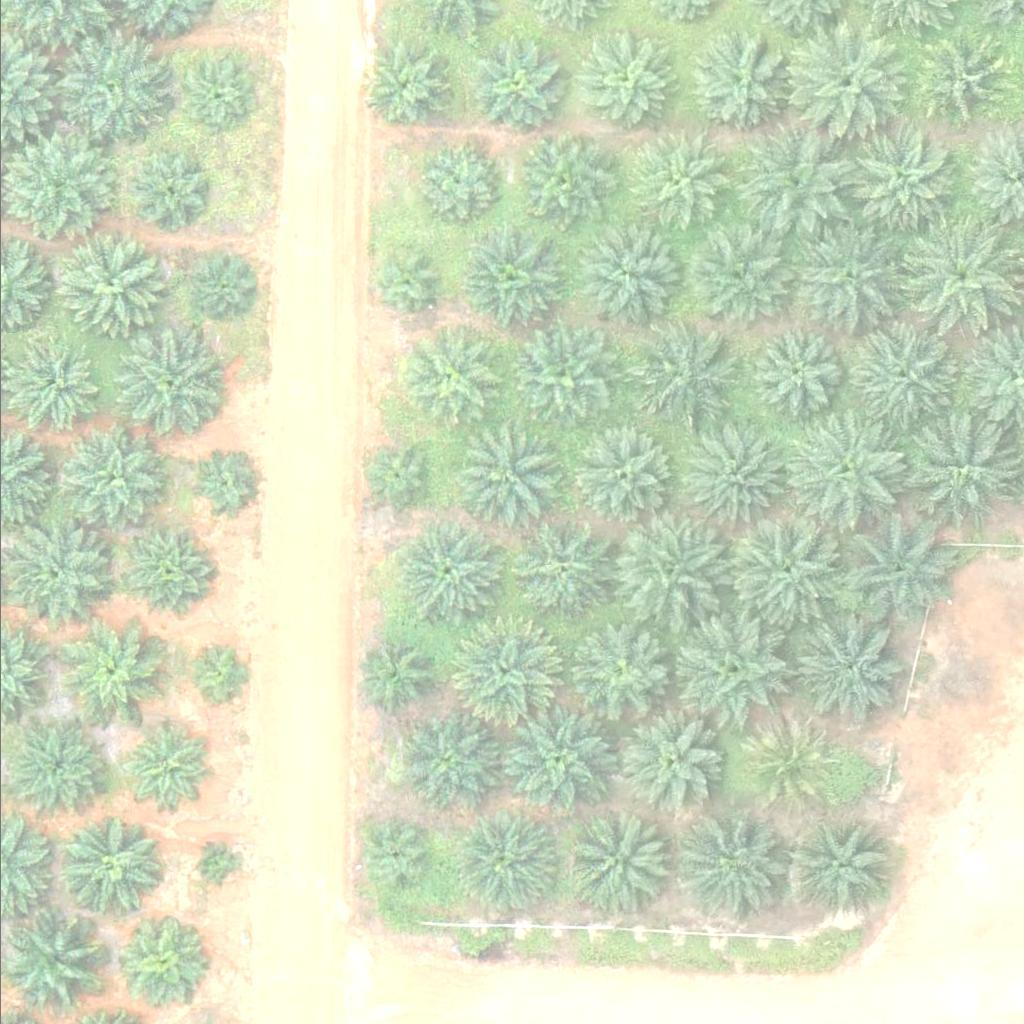Kelapa_Sawit: (790, 617, 904, 730), (674, 615, 788, 728), (839, 515, 953, 628), (502, 704, 615, 817), (901, 220, 1014, 333), (796, 219, 909, 332), (847, 122, 960, 235), (733, 515, 847, 627), (900, 418, 1014, 530), (441, 617, 554, 729), (676, 812, 789, 924), (609, 512, 722, 624), (787, 415, 900, 527), (842, 319, 955, 431), (740, 128, 853, 240), (791, 26, 904, 138), (58, 28, 171, 140), (788, 814, 889, 914), (396, 711, 497, 811), (505, 520, 606, 620), (398, 524, 499, 624), (682, 426, 783, 526), (569, 427, 670, 527), (460, 427, 561, 527), (637, 326, 738, 426), (511, 328, 612, 428), (399, 328, 500, 428), (687, 234, 788, 334), (579, 228, 680, 328), (457, 229, 558, 329), (630, 135, 731, 235), (513, 134, 614, 234), (688, 33, 789, 133), (572, 32, 673, 132), (61, 235, 162, 335), (120, 337, 221, 437), (63, 428, 164, 528), (6, 523, 107, 623), (59, 625, 160, 725), (7, 717, 108, 817), (569, 809, 669, 909), (455, 814, 555, 914), (616, 715, 716, 815), (566, 621, 666, 721), (356, 35, 456, 135), (63, 817, 163, 917), (5, 912, 105, 1012), (914, 36, 1003, 124), (738, 720, 826, 808), (412, 140, 500, 228), (120, 722, 208, 810), (748, 328, 836, 415), (472, 45, 560, 132), (123, 534, 211, 621), (111, 921, 199, 1008), (174, 57, 250, 132), (357, 820, 433, 895), (365, 246, 441, 321), (131, 154, 206, 229), (352, 638, 427, 713), (358, 442, 433, 517), (189, 255, 252, 318), (191, 455, 254, 517), (190, 641, 253, 703), (195, 848, 233, 885)
